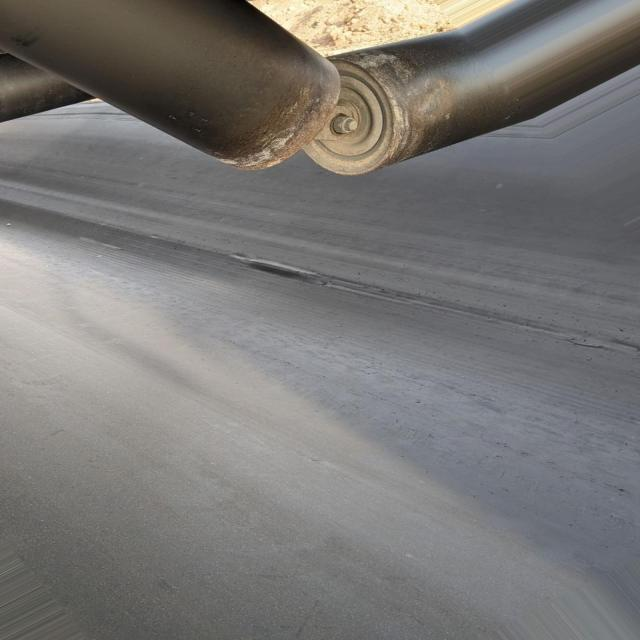Roller: (0, 0, 340, 173), (298, 28, 524, 178), (0, 50, 91, 122)
impact damage: (232, 254, 329, 285)
